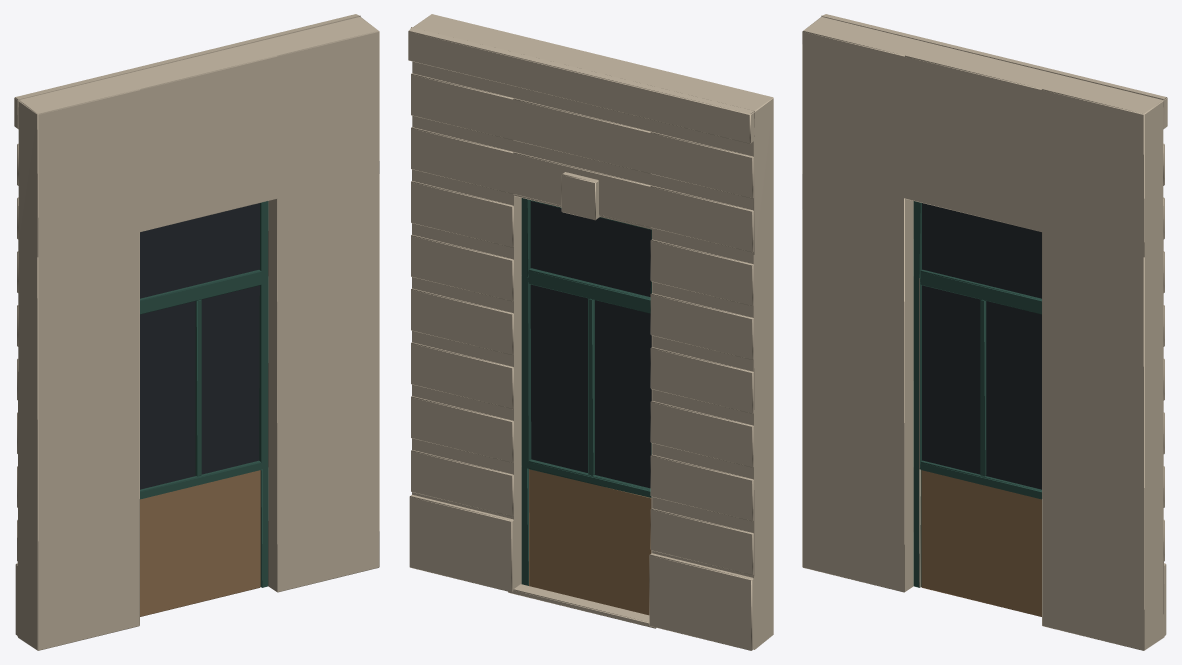
Rendered from SM_VB_FacA_GroundDoor.fbx.
The picture shows the model from 3 angles, left to right: view 1: azimuth 30°, elevation 25°; view 2: azimuth 150°, elevation 25°; view 3: azimuth 330°, elevation 25°; orthographic projection.
Visible parts, largest first — view 1: SM_VB_FacA_GroundDoor; view 2: SM_VB_FacA_GroundDoor; view 3: SM_VB_FacA_GroundDoor.
Part boxes in pixels (box(x1,y1,x2,y2)): SM_VB_FacA_GroundDoor: box(14, 14, 379, 650); SM_VB_FacA_GroundDoor: box(408, 14, 773, 650); SM_VB_FacA_GroundDoor: box(802, 14, 1167, 650).
Size of the model in its own units: 3.01 by 4.53 by 0.37.
